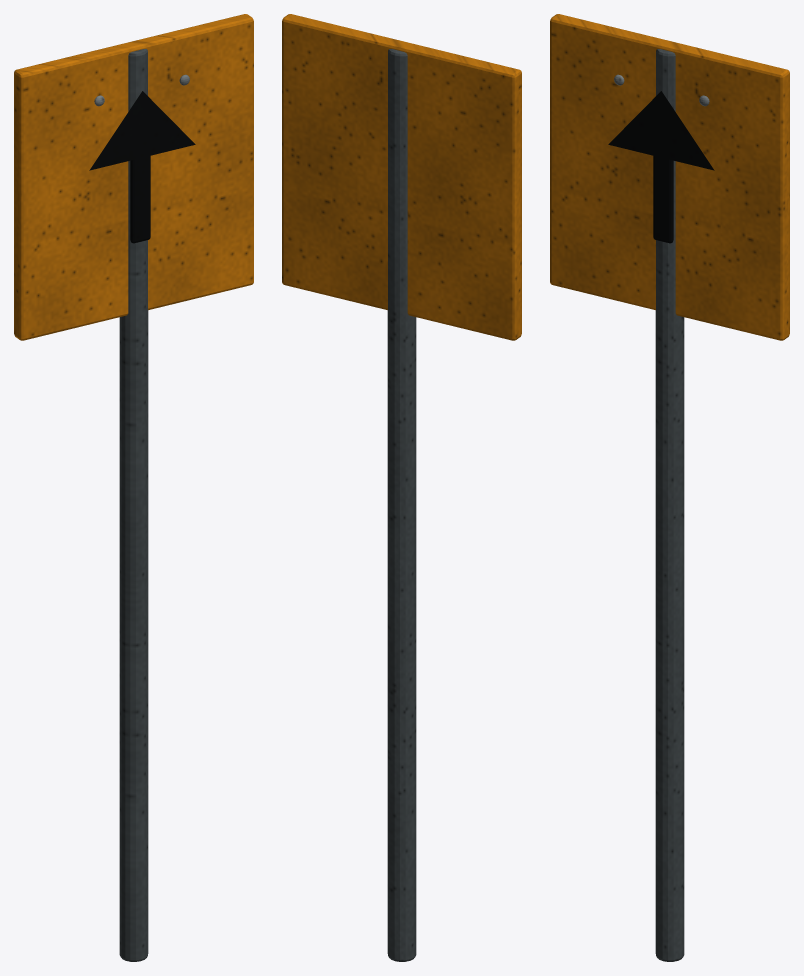
The model's file is PROP-66C456FCBE18_lod0.glb.
3 views of the same model, side by side, from view 1: azimuth 30°, elevation 25°; view 2: azimuth 150°, elevation 25°; view 3: azimuth 330°, elevation 25° (orthographic).
Parts seen in each view (by area): view 1: sign_plate.015, sign_post.022, direction_symbol.017, symbol_stem.017; view 2: sign_plate.015, sign_post.022; view 3: sign_plate.015, sign_post.022, direction_symbol.017, symbol_stem.017.
Part boxes in pixels (box(x1,y1,x2,y2)): sign_plate.015: box(14, 14, 253, 340); sign_post.022: box(119, 49, 148, 961); direction_symbol.017: box(89, 91, 195, 170); symbol_stem.017: box(130, 156, 150, 243); sign_plate.015: box(282, 14, 521, 340); sign_post.022: box(387, 49, 416, 961); sign_plate.015: box(550, 14, 789, 340); sign_post.022: box(655, 49, 684, 961); direction_symbol.017: box(608, 91, 714, 170); symbol_stem.017: box(653, 156, 673, 243).
Bounding box in the file's own units: 0.66 × 2.46 × 0.083.
Materials: 4 (4 with a texture image).
